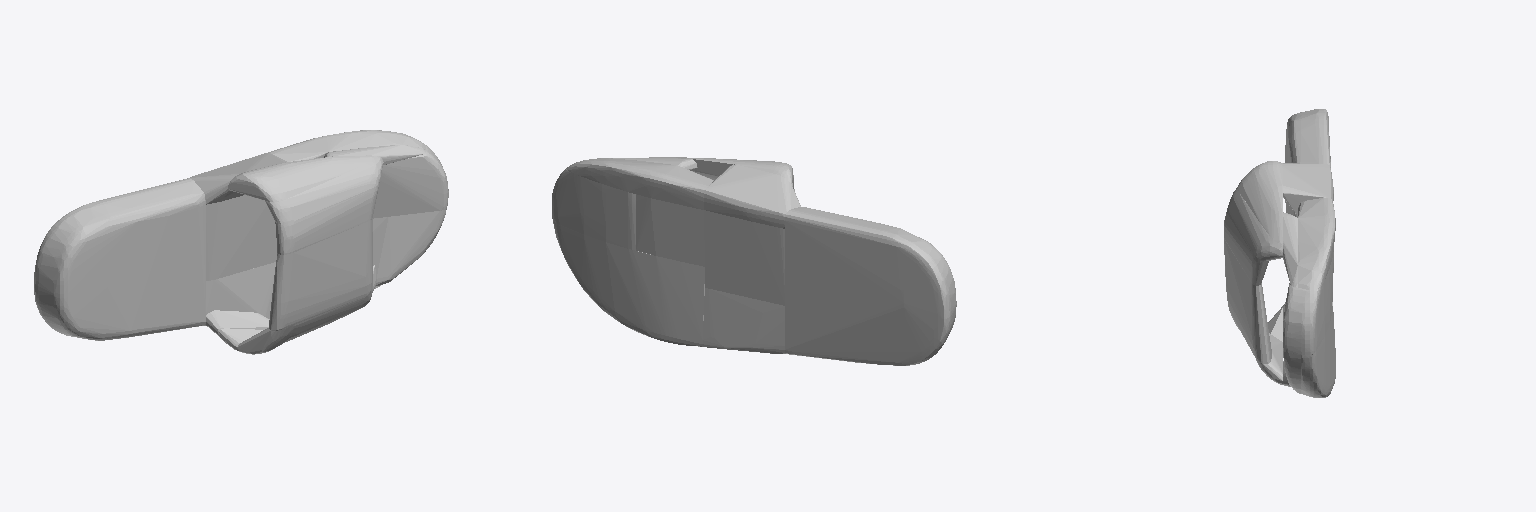
The model's file is coacd_collision.obj.
The picture shows the model from 3 angles: view 1: azimuth 30°, elevation 25°; view 2: azimuth 150°, elevation 25°; view 3: azimuth 270°, elevation 25°; orthographic projection.
Parts seen in each view (by area): view 1: geometry_2, geometry_0, geometry_15, geometry_10, geometry_3, geometry_13, geometry_1, geometry_6, geometry_11, geometry_17, geometry_14, geometry_8 (+4 smaller); view 2: geometry_2, geometry_5, geometry_15, geometry_10, geometry_11, geometry_17, geometry_14, geometry_12, geometry_3; view 3: geometry_17, geometry_10, geometry_0, geometry_3, geometry_2, geometry_14, geometry_5, geometry_6, geometry_1, geometry_18, geometry_4, geometry_13.
Part boxes in pixels (left/top/right/bottom): geometry_2: left=34, top=178, right=205, bottom=340; geometry_0: left=269, top=218, right=372, bottom=330; geometry_15: left=206, top=195, right=276, bottom=280; geometry_10: left=373, top=145, right=448, bottom=218; geometry_3: left=228, top=155, right=374, bottom=201; geometry_13: left=375, top=209, right=446, bottom=285; geometry_1: left=275, top=186, right=378, bottom=254; geometry_6: left=265, top=156, right=383, bottom=223; geometry_11: left=204, top=262, right=275, bottom=326; geometry_17: left=268, top=130, right=425, bottom=161; geometry_14: left=190, top=153, right=286, bottom=204; geometry_8: left=206, top=310, right=269, bottom=337; geometry_2: left=785, top=207, right=956, bottom=365; geometry_5: left=553, top=221, right=704, bottom=346; geometry_15: left=704, top=210, right=784, bottom=305; geometry_10: left=552, top=168, right=635, bottom=250; geometry_11: left=703, top=288, right=785, bottom=353; geometry_17: left=567, top=158, right=713, bottom=209; geometry_14: left=704, top=164, right=800, bottom=228; geometry_12: left=636, top=194, right=704, bottom=266; geometry_3: left=649, top=157, right=792, bottom=185; geometry_17: left=1298, top=198, right=1335, bottom=289; geometry_10: left=1283, top=258, right=1332, bottom=354; geometry_0: left=1224, top=240, right=1271, bottom=363; geometry_3: left=1237, top=161, right=1282, bottom=244; geometry_2: left=1285, top=109, right=1330, bottom=216; geometry_14: left=1283, top=163, right=1333, bottom=215; geometry_5: left=1301, top=302, right=1335, bottom=397; geometry_6: left=1228, top=188, right=1282, bottom=260; geometry_1: left=1224, top=208, right=1268, bottom=285; geometry_18: left=1283, top=212, right=1297, bottom=287; geometry_4: left=1256, top=333, right=1282, bottom=384; geometry_13: left=1283, top=351, right=1300, bottom=393.
Size of the model in its own units: 251 by 106 by 60.99.